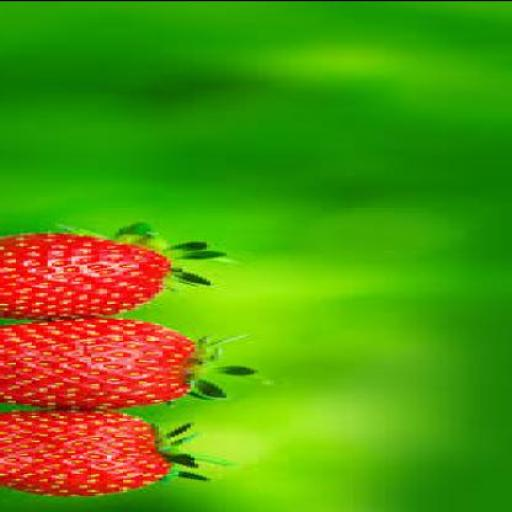biodegradable: (4, 317, 274, 410), (4, 224, 226, 320), (4, 410, 238, 498)
